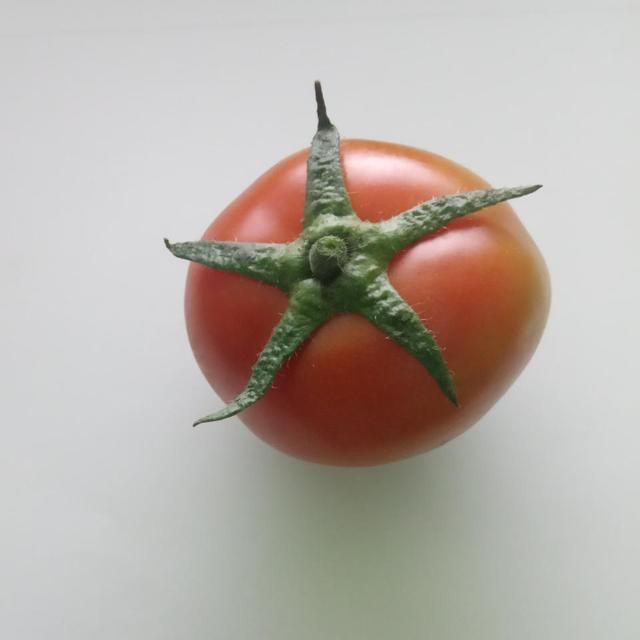Healthy Fruit: (117, 87, 371, 314)
